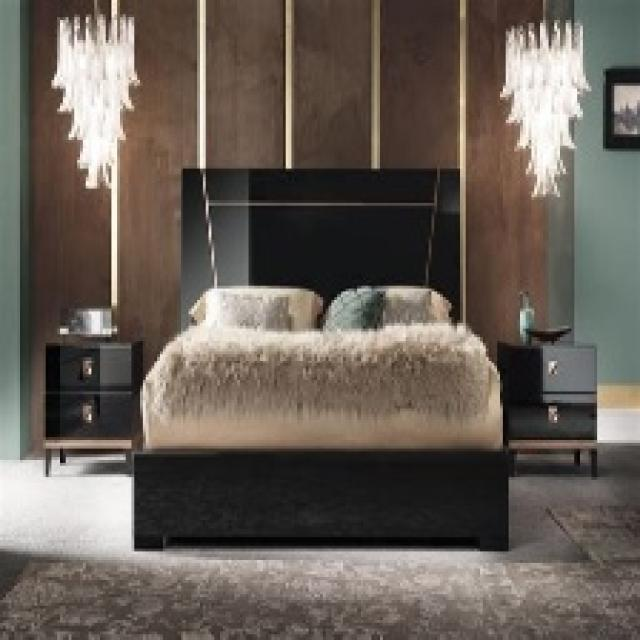Bed: (132, 166, 508, 551)
